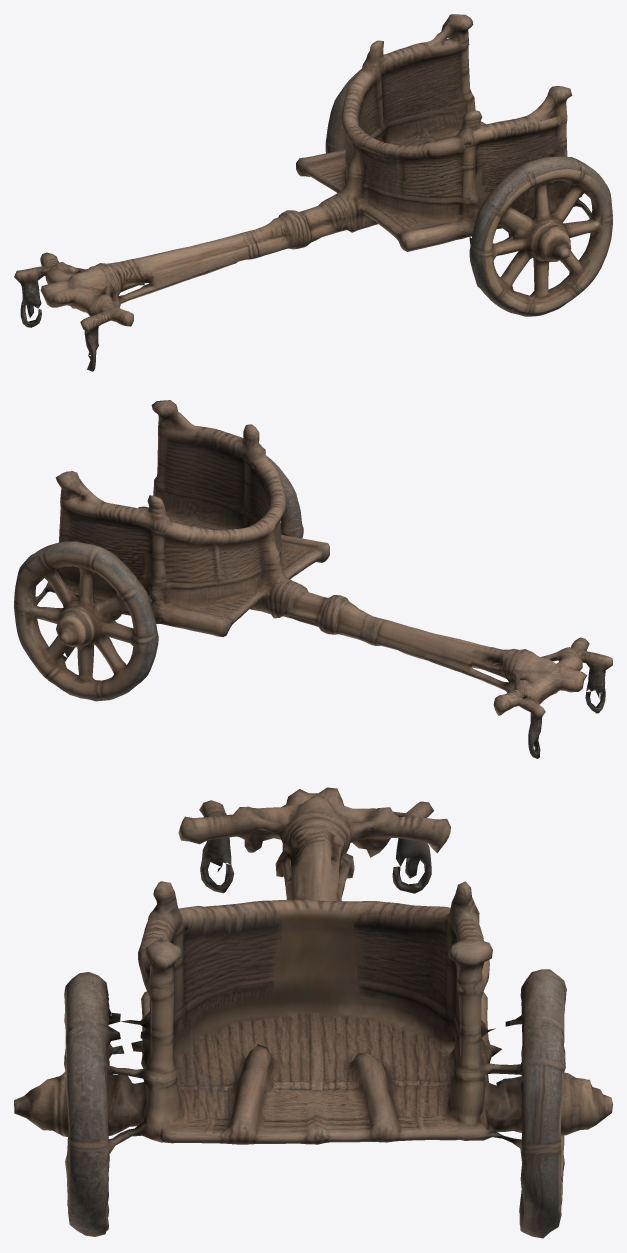
Rendered from Wood Cart Chariot (1).fbx.
3 renders of one model, top to bottom at view 1: azimuth 30°, elevation 25°; view 2: azimuth 150°, elevation 25°; view 3: azimuth 270°, elevation 25°, orthographic. The views are drawn at different scales.
Visible parts, largest first — view 1: Mesh_0; view 2: Mesh_0; view 3: Mesh_0.
Part boxes in pixels (box(x1,y1,x2,y2)): Mesh_0: box(14, 14, 612, 371); Mesh_0: box(14, 400, 612, 758); Mesh_0: box(14, 787, 612, 1238).
Size of the model in its own units: 200 by 77.84 by 134.
Materials: 1 (1 with a texture image).
